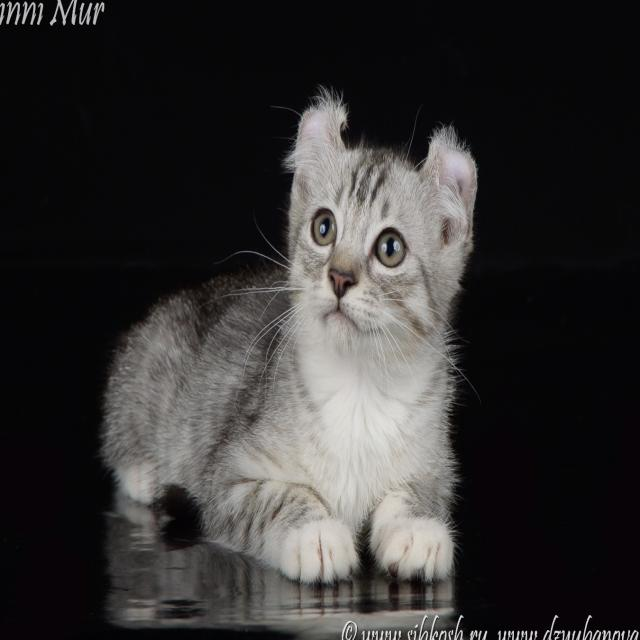American Curl: (94, 93, 482, 592)
